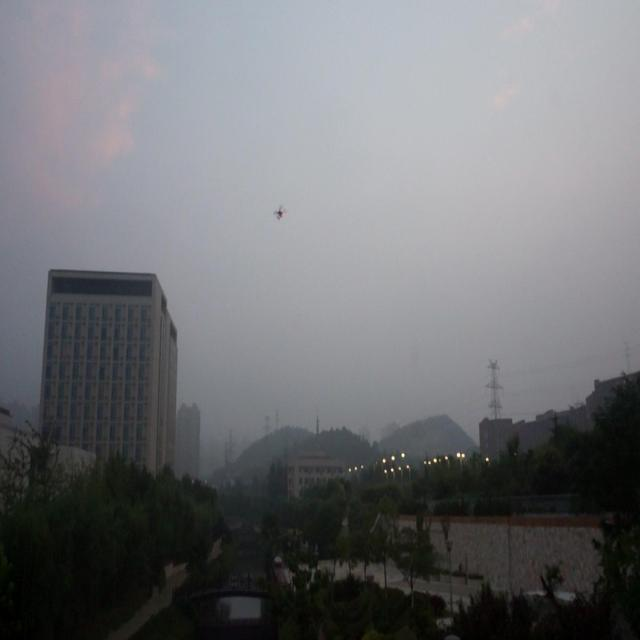drone: (272, 202, 288, 224)
